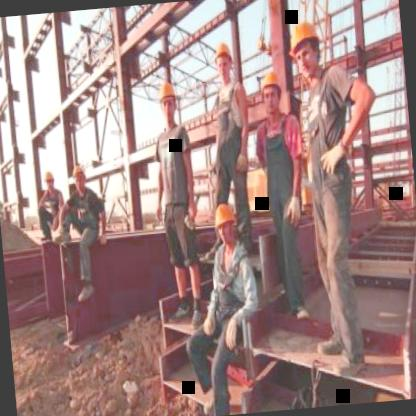helmet: (284, 12, 328, 86), (151, 76, 183, 130), (258, 66, 288, 118), (211, 199, 241, 250), (212, 36, 238, 89), (72, 162, 88, 193), (42, 168, 57, 196)
